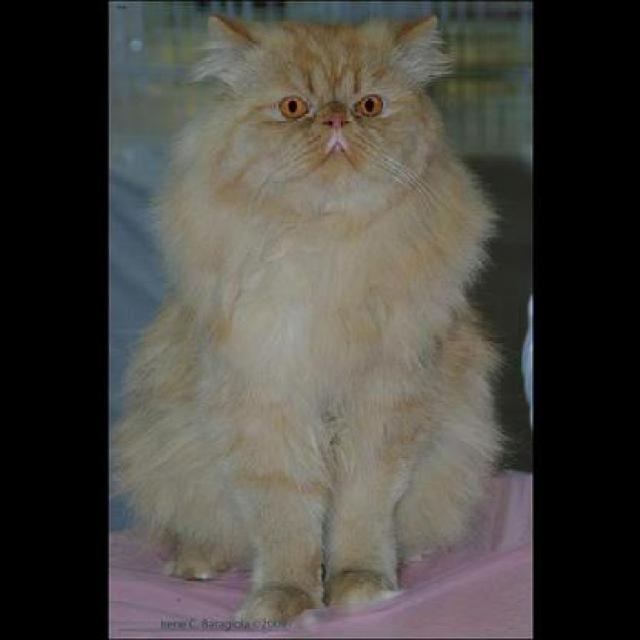unauthorized: (109, 10, 508, 628)
